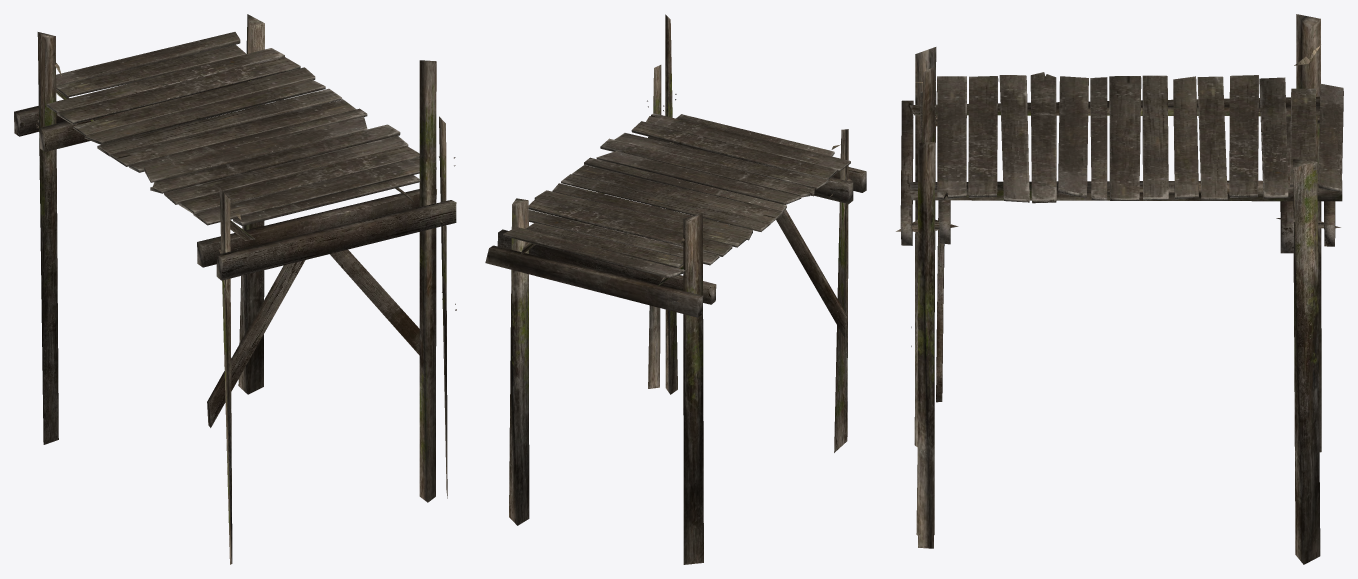
File: ph_modular_wooden_pier_lod1.glb
3 renders of one model, left to right at view 1: azimuth 30°, elevation 25°; view 2: azimuth 150°, elevation 25°; view 3: azimuth 270°, elevation 25°, orthographic. The views are drawn at different scales.
Visible parts, largest first — view 1: modular_wooden_pier_section_01; view 2: modular_wooden_pier_section_01; view 3: modular_wooden_pier_section_01.
Boxes of the visible parts, x1,y1,x2,y2 form: modular_wooden_pier_section_01: [14, 14, 456, 564]; modular_wooden_pier_section_01: [485, 14, 866, 564]; modular_wooden_pier_section_01: [896, 14, 1343, 564].
Size of the model in its own units: 2.44 by 4.23 by 3.5.
2 materials, 2 textured.
